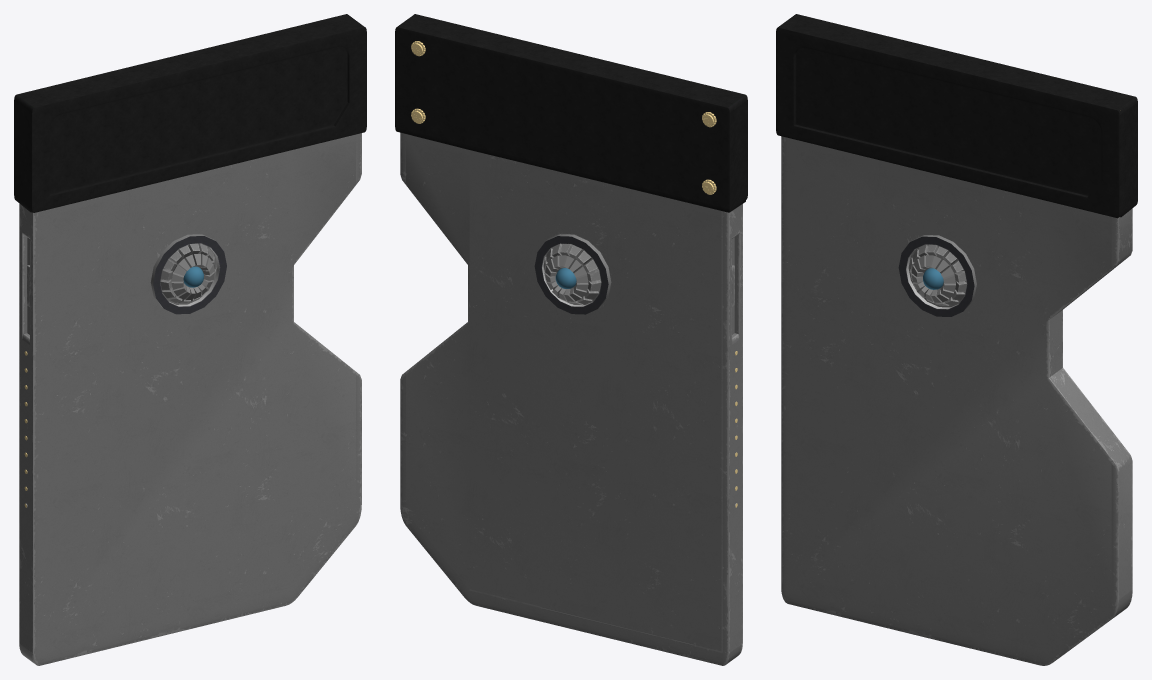
The model's file is access_card.fbx.
3 views of the same model, side by side, from view 1: azimuth 30°, elevation 25°; view 2: azimuth 150°, elevation 25°; view 3: azimuth 330°, elevation 25° (orthographic). The views are drawn at different scales.
Parts seen in each view (by area): view 1: acess_card_lowpoly; view 2: acess_card_lowpoly; view 3: acess_card_lowpoly.
Boxes of the visible parts, x1,y1,x2,y2 form: acess_card_lowpoly: (14, 14, 366, 665); acess_card_lowpoly: (395, 14, 747, 665); acess_card_lowpoly: (776, 14, 1137, 665).
Size of the model in its own units: 1036 by 1660 by 202.
